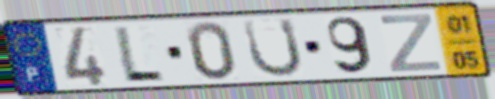0: (184, 19, 239, 83)
4: (61, 24, 109, 88)
9: (325, 15, 374, 76)
L: (112, 25, 168, 83)
U: (240, 16, 306, 80)
Z: (377, 12, 444, 74)
